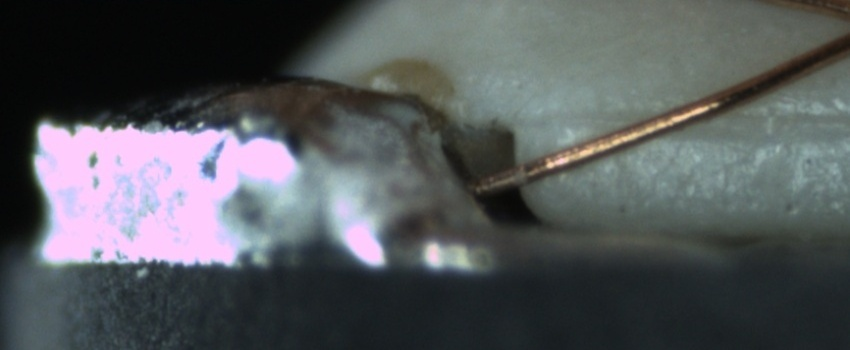DL: (537, 85, 847, 152)
